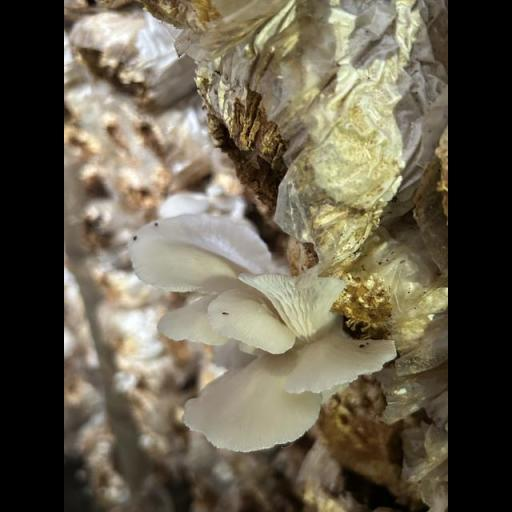White Oyster Mushroom: (130, 213, 394, 449)
